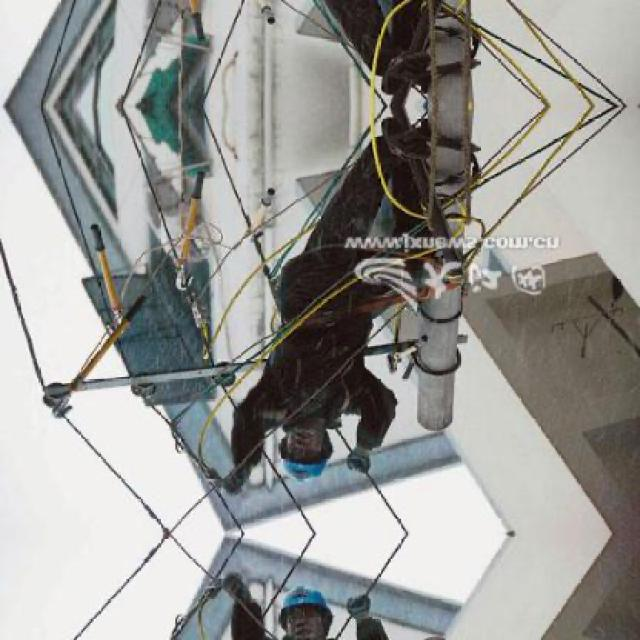con casco: (193, 362, 395, 501)
